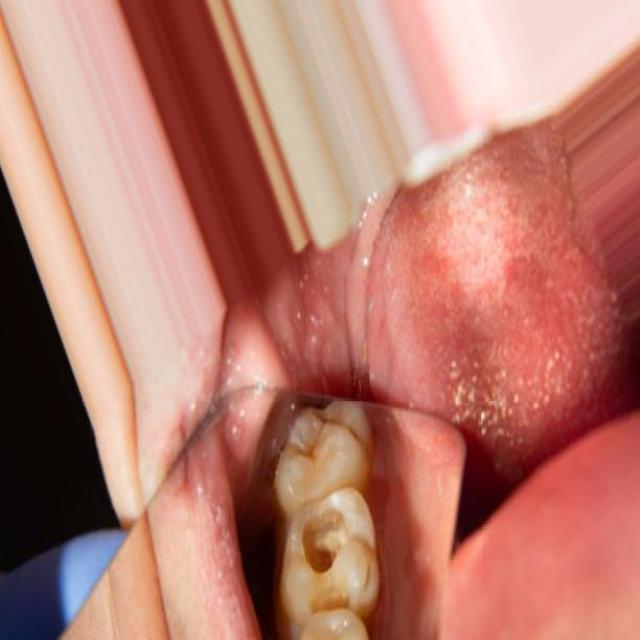caries: (291, 490, 377, 620)
